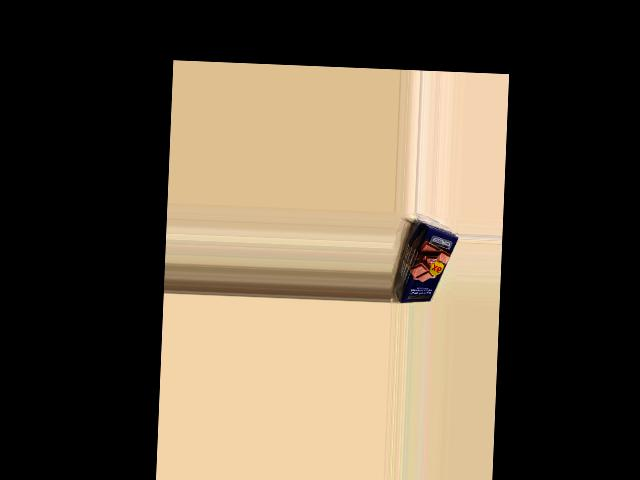chocolate: (395, 224, 459, 305)
